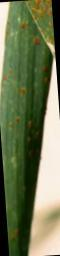Corn: (11, 21, 44, 105), (3, 109, 41, 151)
